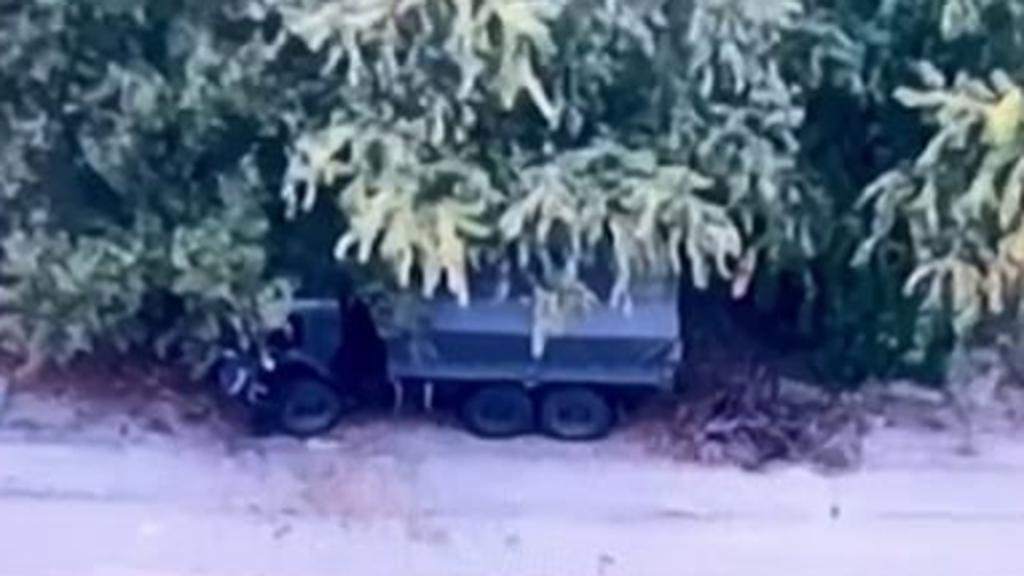TRUCK: (230, 233, 684, 452)
